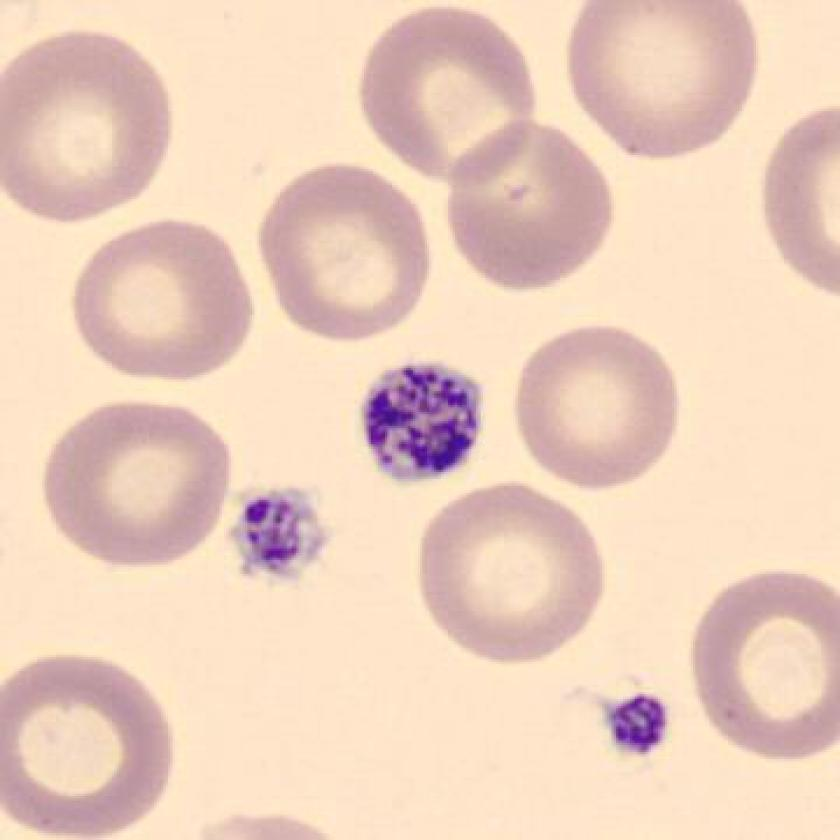platelets: (356, 353, 491, 499), (220, 471, 344, 593), (596, 682, 680, 770)
